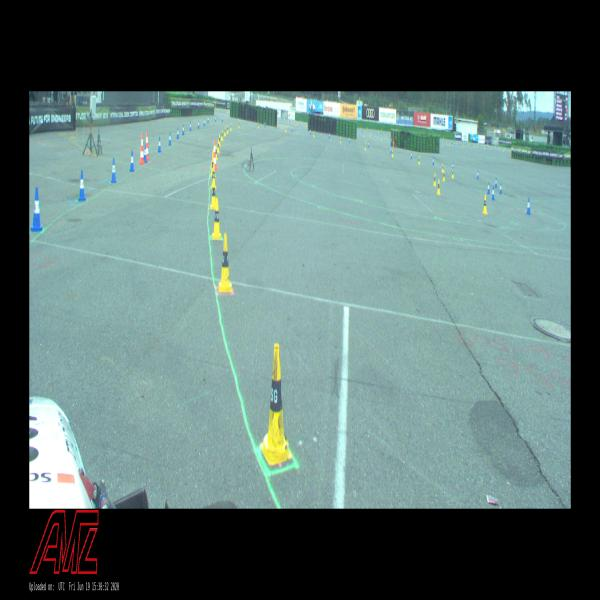blue_cone: (31, 188, 43, 231), (78, 170, 86, 201), (111, 158, 117, 182), (130, 150, 134, 172), (526, 198, 531, 214), (168, 132, 172, 145), (144, 145, 147, 162), (158, 137, 161, 152), (487, 181, 490, 194), (499, 183, 502, 194), (182, 125, 185, 135), (492, 187, 494, 200), (177, 127, 179, 139), (495, 177, 497, 188), (477, 170, 479, 180), (190, 121, 191, 130), (198, 120, 199, 128)
large_orange_cone: (138, 133, 145, 164), (146, 132, 150, 160), (214, 140, 217, 170)
yellow_cone: (260, 344, 292, 465), (219, 234, 232, 292), (212, 198, 221, 239), (210, 178, 216, 209), (211, 164, 216, 189), (483, 195, 487, 214), (211, 156, 214, 176), (437, 179, 440, 194), (433, 173, 436, 186), (217, 140, 220, 153), (216, 145, 218, 160), (219, 134, 221, 146), (443, 170, 445, 181), (222, 130, 224, 140), (452, 168, 454, 178), (442, 163, 444, 172), (224, 127, 226, 136), (230, 124, 232, 130), (227, 125, 228, 133)
